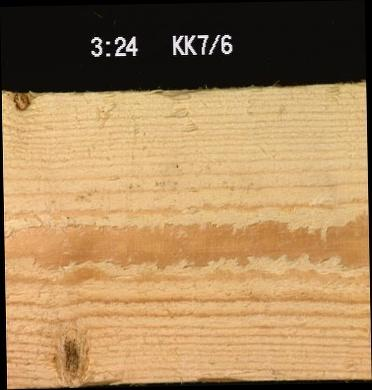edge_knot: (10, 90, 32, 111)
wave: (191, 365, 251, 383)
